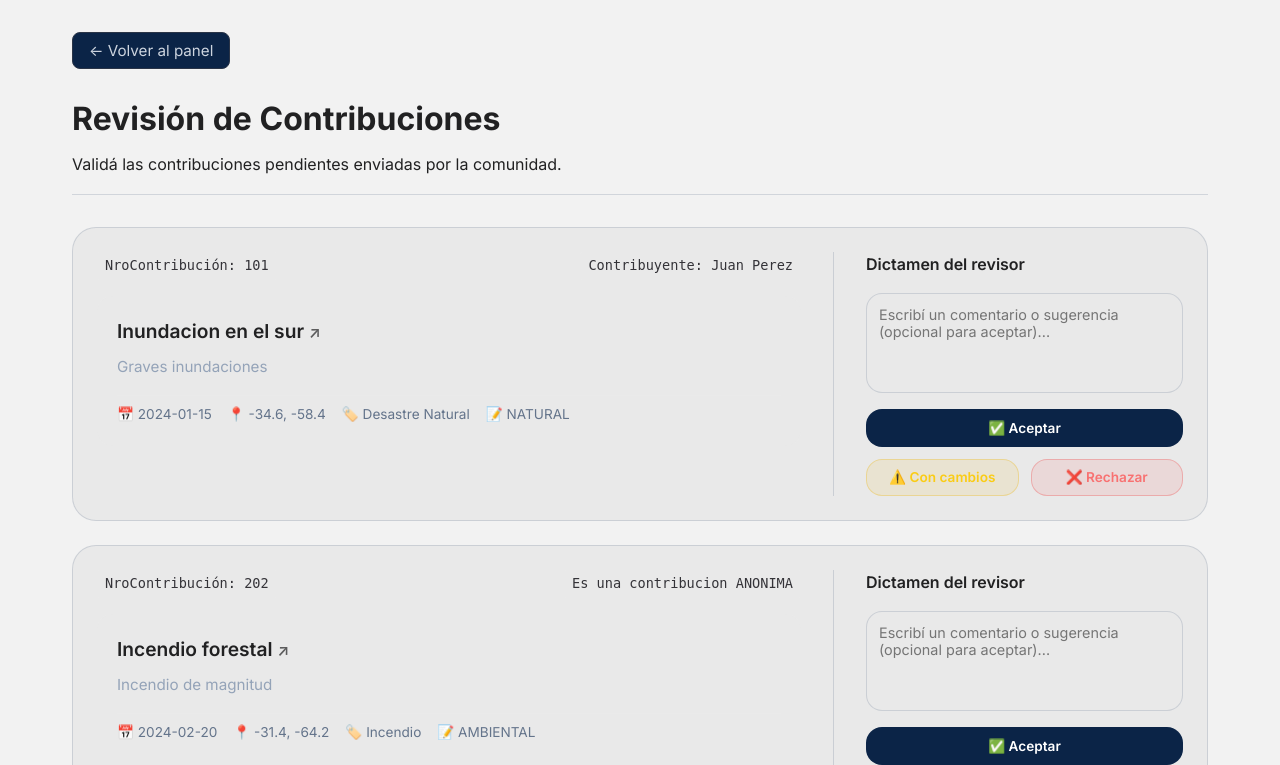
Test case: GestionRevisiones › acciones sobre revisiones › elimina la card de la lista tras aceptar
Expected: the text "Inundacion en el sur" is shown, [117,319,304,343]
Click the button "✅ Aceptar" in the row of "Desastre Natural" at (1024, 428), box [866,409,1183,447]
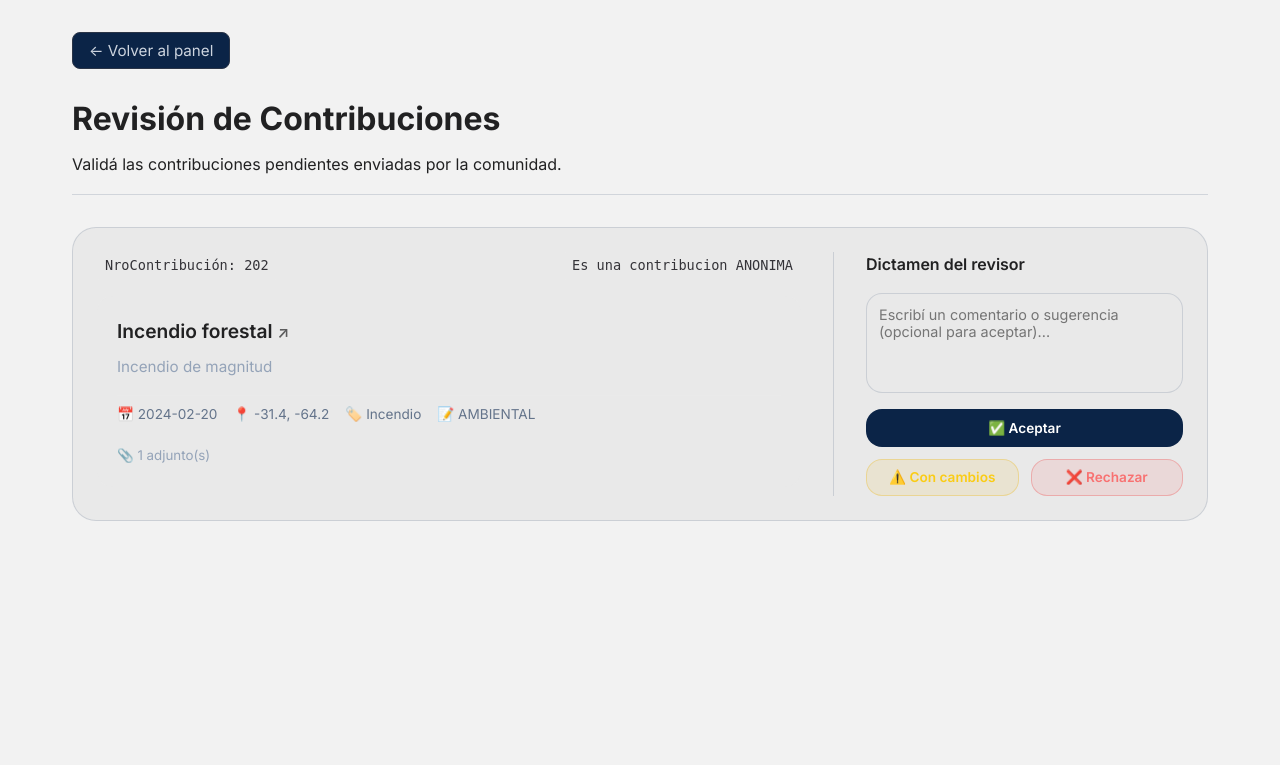
Expected: the text "Incendio forestal" is shown, [117,319,272,343]
Now the text "Inundacion en el sur" is gone
